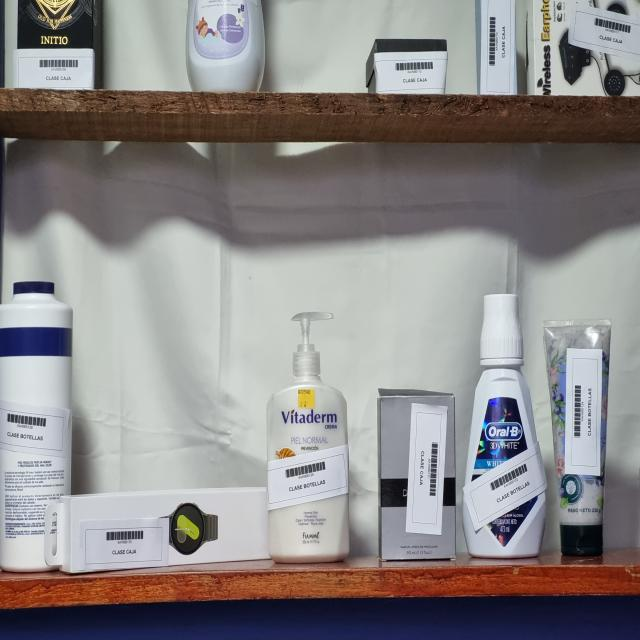botella: (463, 294, 547, 558), (0, 281, 72, 571), (267, 311, 349, 562), (543, 319, 611, 556), (186, 0, 265, 92)
caja: (44, 487, 270, 573), (377, 388, 456, 561), (527, 0, 640, 95), (15, 0, 99, 89), (366, 39, 448, 94), (476, 0, 517, 95)
